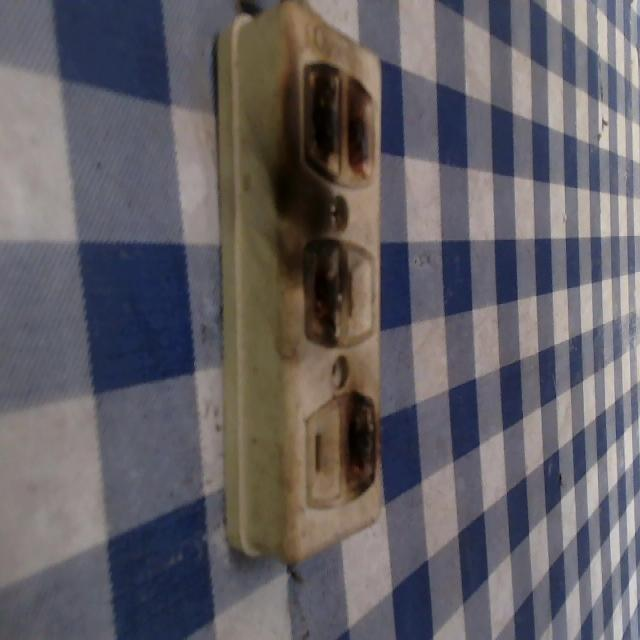-: (292, 44, 382, 189), (290, 228, 347, 356), (341, 390, 383, 498)
